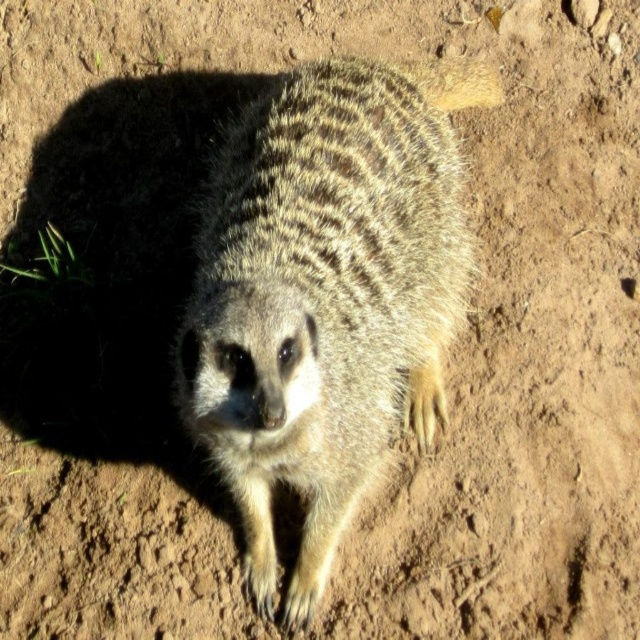Raccoon: (172, 57, 485, 639)
